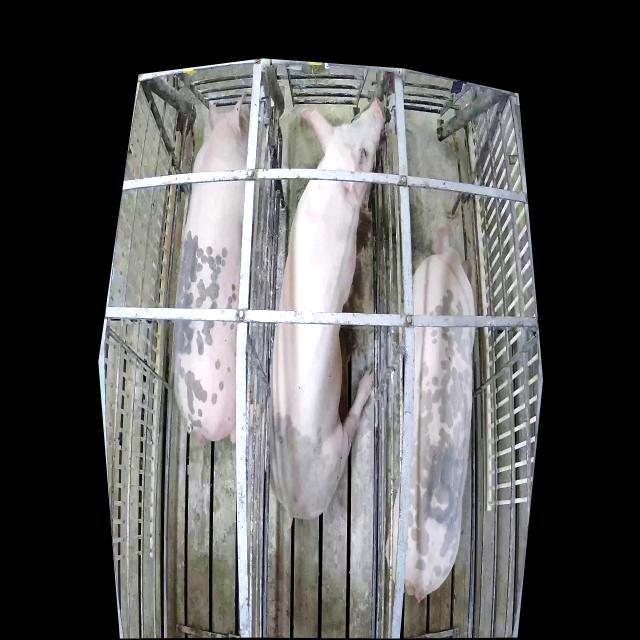pig: (270, 99, 387, 516), (385, 223, 475, 590), (174, 91, 250, 441)
